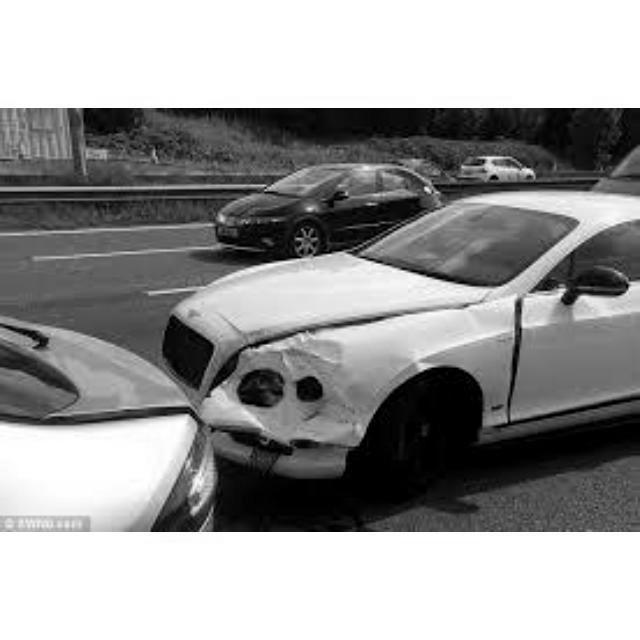fender-dent: (253, 320, 452, 445)
